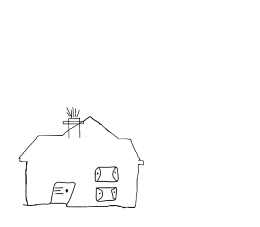bottom_placed_house: (8, 7, 260, 227)
door: (44, 176, 82, 211)
open_window: (92, 162, 121, 185), (92, 185, 121, 203)
single_line_roof: (15, 101, 150, 162)
small_house: (0, 0, 260, 227)
smoking_chimney: (59, 105, 88, 147)
wall: (16, 157, 149, 213)
